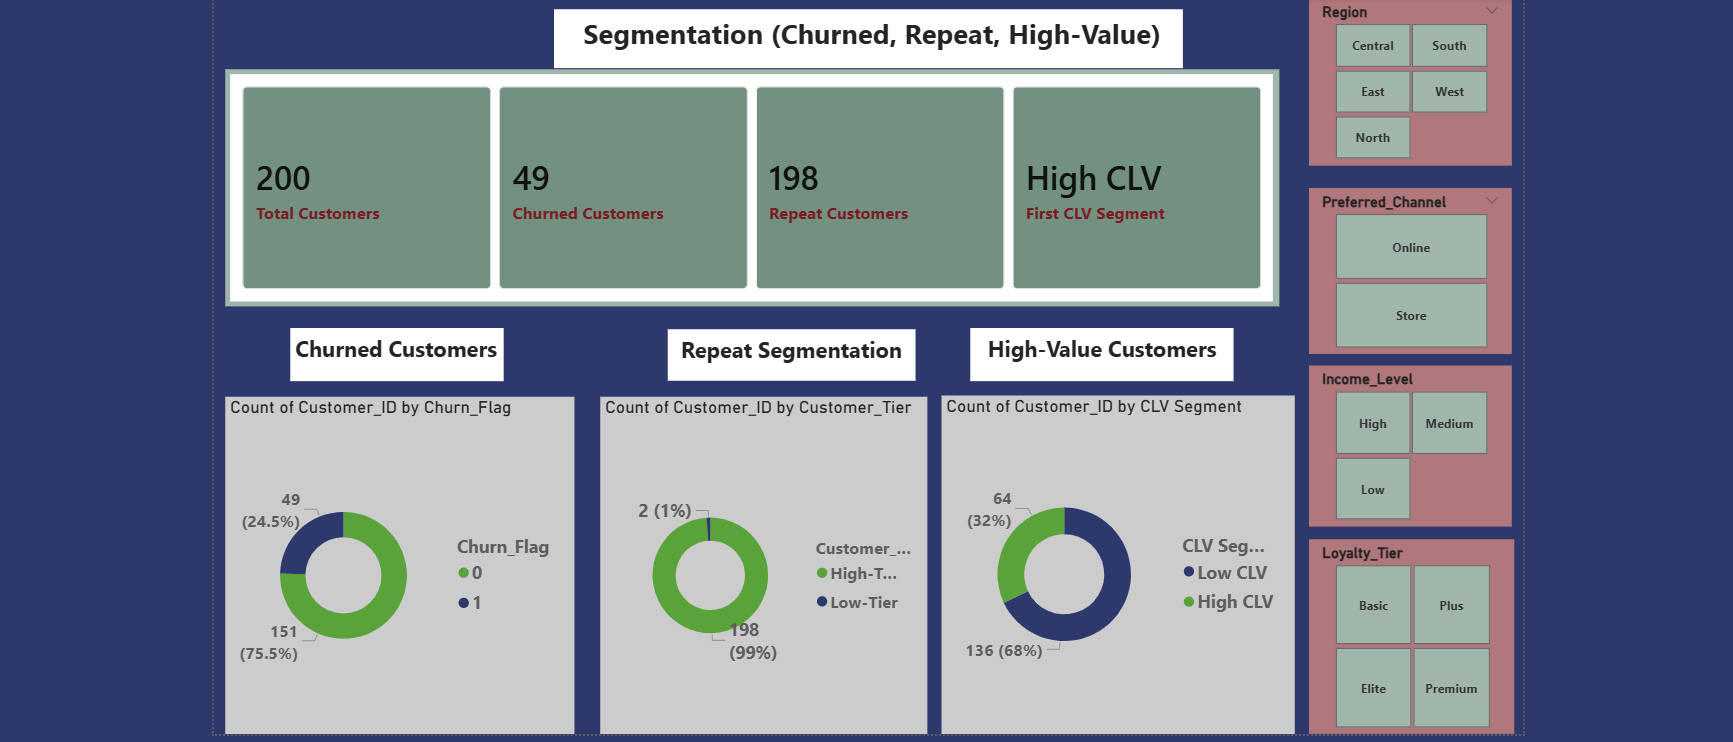

The page's visual inventory and layout, read from the dashboard file:
{"tool":"powerbi","page":{"name":" Segmentation (Churned, Repeat, High-Value)","canvas":[1280,720],"ordinal":8},"visuals":[{"type":"textbox","box":[332.6,11,615.1,57.5],"z":0},{"type":"cardVisual","fields":{"Data":["measures .Total Customers","measures .Churned Customers","measures .Repeat Customers","Min(Customer_Demographics.CLV Segment)"]},"box":[11,69.7,1030.8,232.3],"z":1000},{"type":"donutChart","fields":{"Category":["Churn_Labelled_Customers.Churn_Flag"],"Y":["Count(Churn_Labelled_Customers.Customer_ID)"]},"box":[11,389.7,341.7,330.7],"z":2000},{"type":"donutChart","fields":{"Category":["Customer_Demographics.Customer_Tier"],"Y":["Count(Customer_Demographics.Customer_ID)"]},"box":[377.4,389.7,319.7,330.7],"z":3000},{"type":"donutChart","fields":{"Category":["Customer_Demographics.CLV Segment"],"Y":["Count(Customer_Demographics.Customer_ID)"]},"box":[712,389.1,345.5,331],"z":4000},{"type":"slicer","fields":{"Values":["Customer_Demographics.Region"]},"box":[1071.2,0,198.1,163.9],"z":5000},{"type":"slicer","fields":{"Values":["Customer_Demographics.Preferred_Channel"]},"box":[1071.2,185.9,198.1,162.6],"z":6000},{"type":"slicer","fields":{"Values":["Customer_Demographics.Income_Level"]},"box":[1071.2,359.5,198.1,157.7],"z":7000},{"type":"slicer","fields":{"Values":["Loyalty_Program.Loyalty_Tier"]},"box":[1071.2,529.5,200.5,190.8],"z":8000},{"type":"textbox","box":[74.1,322.5,208.6,52.1],"z":9000},{"type":"textbox","box":[444,324.5,242.2,50.1],"z":10000},{"type":"textbox","box":[739.6,322.5,258,52.1],"z":11000}]}

Visuals, with their boxes in screenshot pixels (x1, y1, x2, y2):
textbox: 554,7,1177,65
cardVisual - measures .Total Customers x measures .Churned Customers: 228,66,1273,302
donutChart - Churn_Labelled_Customers.Churn_Flag x Count(Churn_Labelled_Customers.Customer_ID): 228,391,574,726
donutChart - Customer_Demographics.Customer_Tier x Count(Customer_Demographics.Customer_ID): 599,391,923,726
donutChart - Customer_Demographics.CLV Segment x Count(Customer_Demographics.Customer_ID): 938,390,1289,725
slicer - Customer_Demographics.Region: 1303,0,1503,162
slicer - Customer_Demographics.Preferred_Channel: 1303,184,1503,349
slicer - Customer_Demographics.Income_Level: 1303,360,1503,520
slicer - Loyalty_Program.Loyalty_Tier: 1303,532,1506,726
textbox: 292,322,503,375
textbox: 667,324,912,375
textbox: 966,322,1228,375
